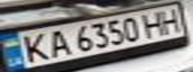0: (121, 15, 145, 43)
3: (90, 20, 112, 50)
5: (106, 17, 127, 46)
6: (72, 21, 93, 53)
A: (42, 27, 72, 58)
H: (154, 7, 187, 34), (139, 9, 169, 37)
K: (15, 30, 51, 63)
